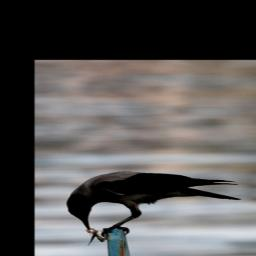Crow: (66, 170, 242, 237)
